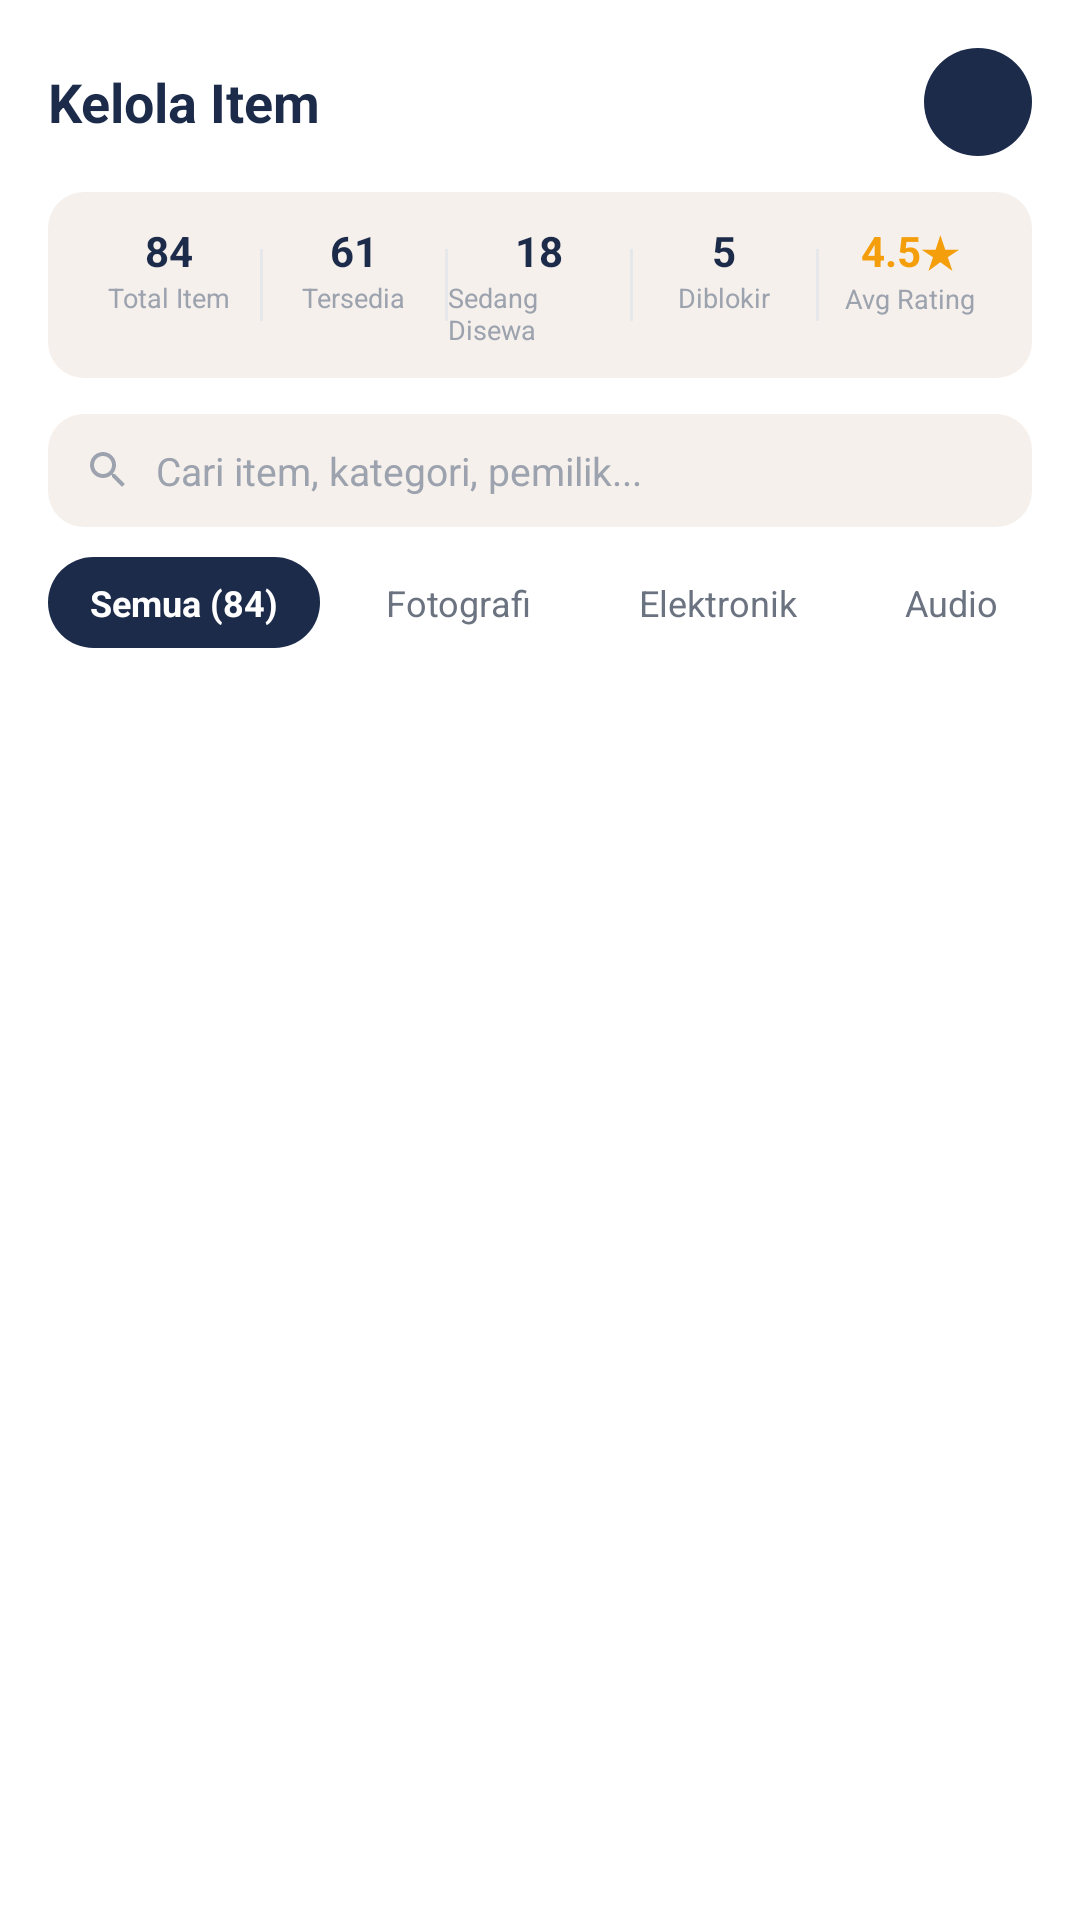

Icon click points for this 1080w x 1920h phone screenshot, format point (x, y):
search: point (107, 469)
